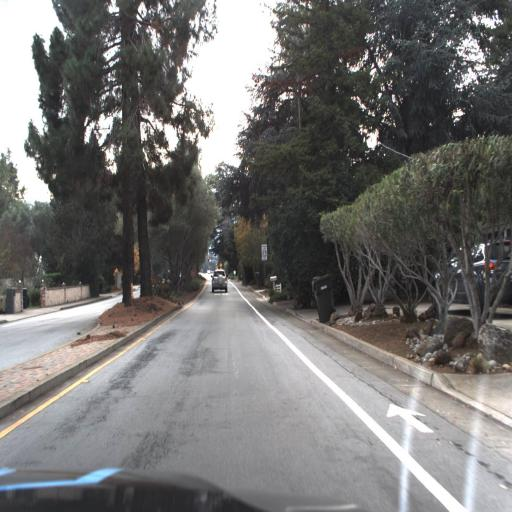car: (427, 236, 512, 318), (204, 264, 230, 297)
